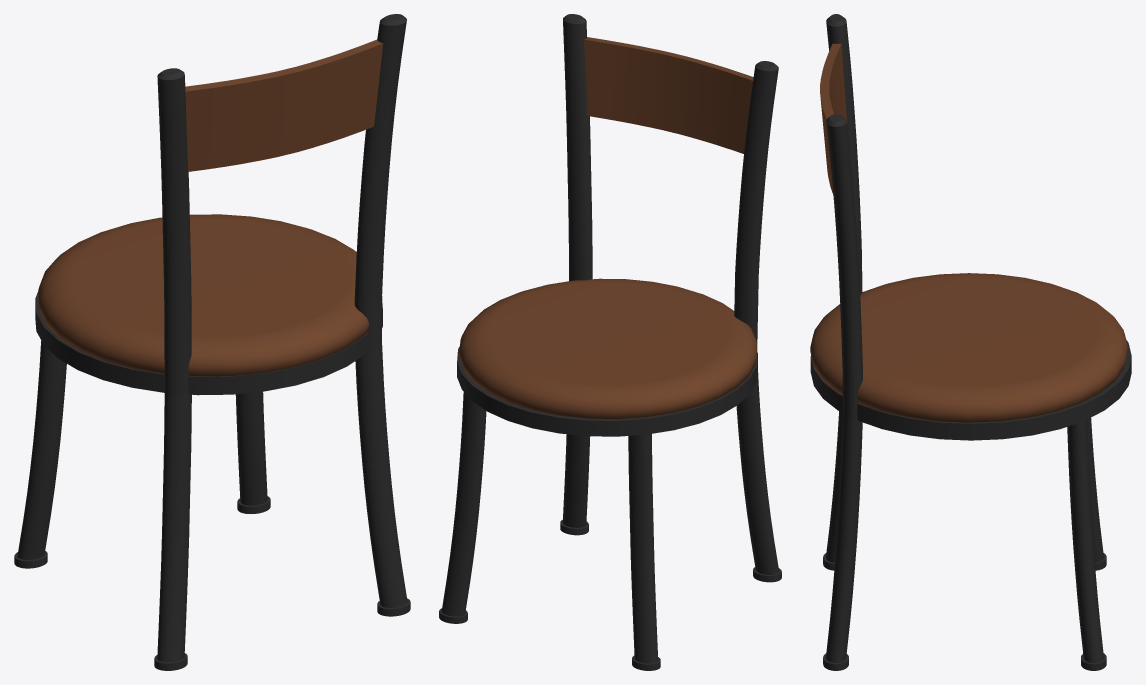
The model's file is Chaise4_9.fbx.
The picture shows the model from 3 angles, left to right: view 1: azimuth 30°, elevation 25°; view 2: azimuth 150°, elevation 25°; view 3: azimuth 270°, elevation 25°; orthographic projection. The views are drawn at different scales.
Visible parts, largest first — view 1: pCylinder1681, pCube2685, pCylinder1674, pCylinder1675, pCylinder1678, pCylinder1677, pCylinder1680, pCylinder1673, pCylinder1676; view 2: pCylinder1681, pCube2685, pCylinder1674, pCylinder1675, pCylinder1680, pCylinder1673, pCylinder1676, pCylinder1678, pCylinder1677; view 3: pCylinder1681, pCylinder1675, pCylinder1680, pCylinder1677, pCylinder1676, pCylinder1674, pCube2685, pCylinder1678, pCylinder1673.
Boxes of the visible parts, left/top/right/bottom form: pCylinder1681: left=38, top=214, right=382, bottom=376; pCube2685: left=185, top=39, right=383, bottom=171; pCylinder1674: left=157, top=68, right=191, bottom=395; pCylinder1675: left=354, top=14, right=406, bottom=349; pCylinder1678: left=154, top=393, right=191, bottom=670; pCylinder1677: left=355, top=344, right=410, bottom=616; pCylinder1680: left=35, top=291, right=382, bottom=395; pCylinder1673: left=14, top=340, right=66, bottom=568; pCylinder1676: left=235, top=391, right=270, bottom=513; pCylinder1681: left=459, top=278, right=757, bottom=418; pCube2685: left=584, top=37, right=753, bottom=153; pCylinder1674: left=734, top=61, right=778, bottom=343; pCylinder1675: left=563, top=14, right=592, bottom=281; pCylinder1680: left=457, top=346, right=757, bottom=436; pCylinder1673: left=628, top=434, right=660, bottom=670; pCylinder1676: left=439, top=392, right=486, bottom=623; pCylinder1678: left=736, top=370, right=781, bottom=582; pCylinder1677: left=560, top=434, right=590, bottom=535; pCylinder1681: left=810, top=273, right=1127, bottom=422; pCylinder1675: left=826, top=114, right=862, bottom=419; pCylinder1680: left=810, top=340, right=1131, bottom=440; pCylinder1677: left=823, top=416, right=862, bottom=670; pCylinder1676: left=1067, top=420, right=1106, bottom=670; pCylinder1674: left=826, top=14, right=862, bottom=294; pCube2685: left=820, top=43, right=847, bottom=194; pCylinder1678: left=823, top=411, right=842, bottom=570; pCylinder1673: left=1087, top=417, right=1106, bottom=570.
Size of the model in its own units: 44.91 by 84.31 by 44.99.
